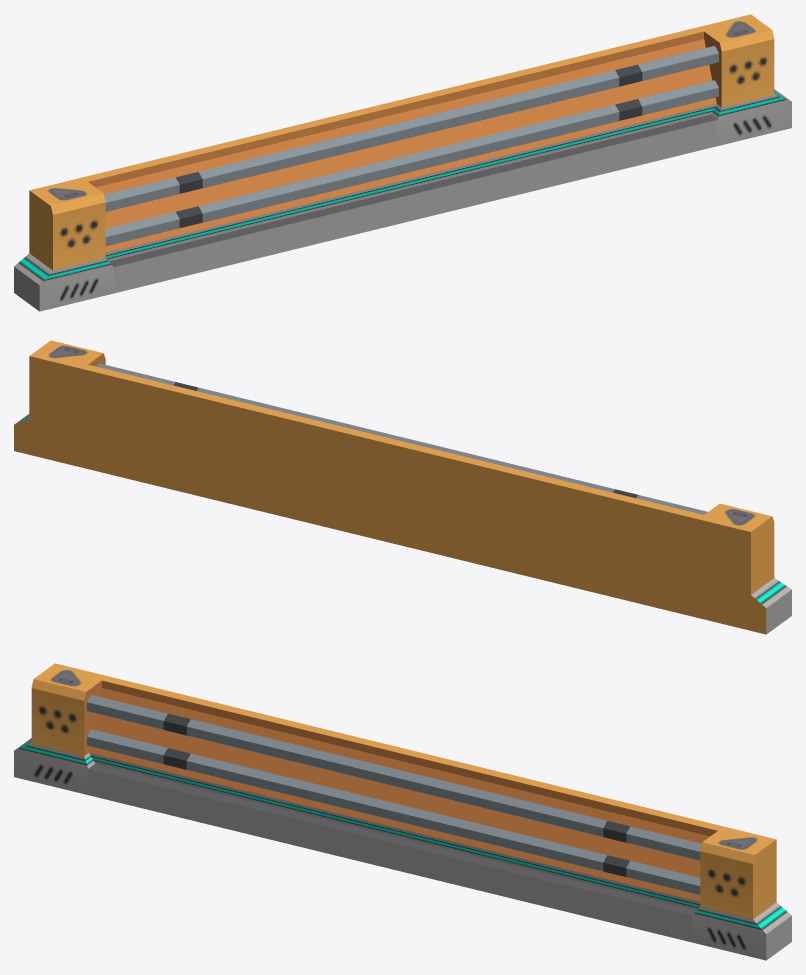
Rendered from SM_Bld_Floor_Trim_02.fbx.
The picture shows the model from 3 angles, top to bottom: view 1: azimuth 30°, elevation 25°; view 2: azimuth 150°, elevation 25°; view 3: azimuth 330°, elevation 25°; orthographic projection.
Visible parts, largest first — view 1: SM_Bld_Floor_Trim_02; view 2: SM_Bld_Floor_Trim_02; view 3: SM_Bld_Floor_Trim_02.
Boxes of the visible parts, left/top/right/bottom form: SM_Bld_Floor_Trim_02: left=14, top=14, right=791, bottom=311; SM_Bld_Floor_Trim_02: left=14, top=340, right=791, bottom=634; SM_Bld_Floor_Trim_02: left=14, top=663, right=791, bottom=960.
Size of the model in its own units: 250 by 31.35 by 14.75.
